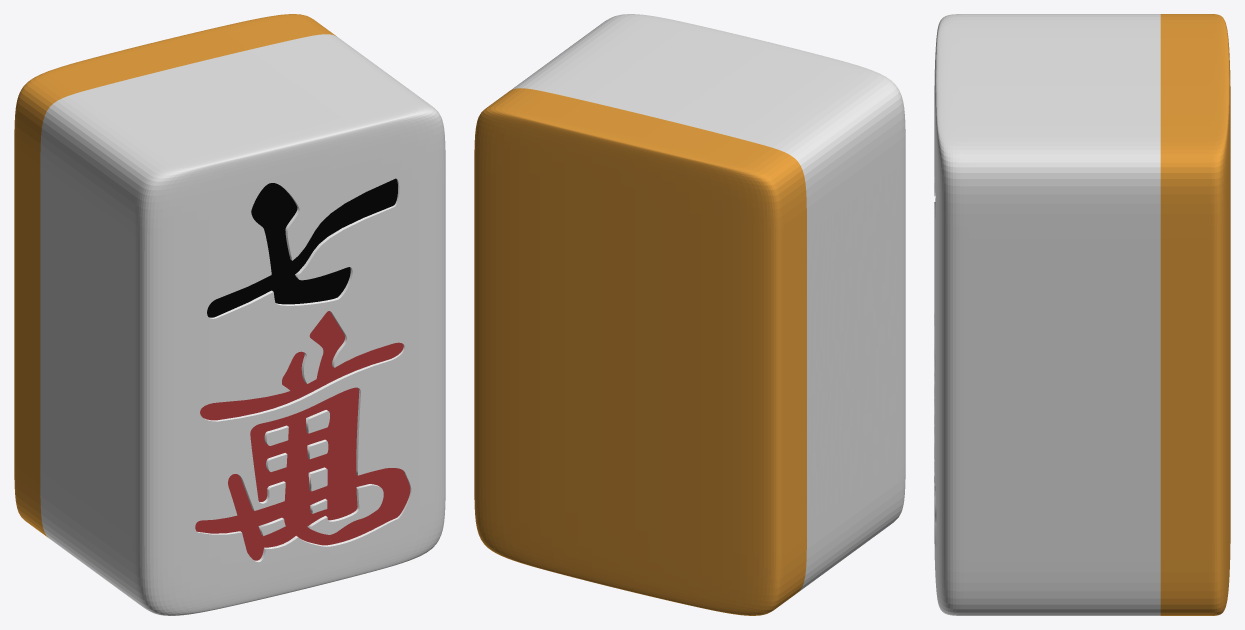
The model's file is Man7.fbx.
3 renders of one model, left to right at view 1: azimuth 30°, elevation 25°; view 2: azimuth 150°, elevation 25°; view 3: azimuth 270°, elevation 25°, orthographic. The views are drawn at different scales.
Visible parts, largest first — view 1: Man7; view 2: Man7; view 3: Man7.
Boxes of the visible parts, box(x1,y1,x2,y2) form: Man7: box(14, 14, 445, 615); Man7: box(474, 14, 905, 615); Man7: box(934, 14, 1230, 615).
Size of the model in its own units: 2 by 2.8 by 1.59.
